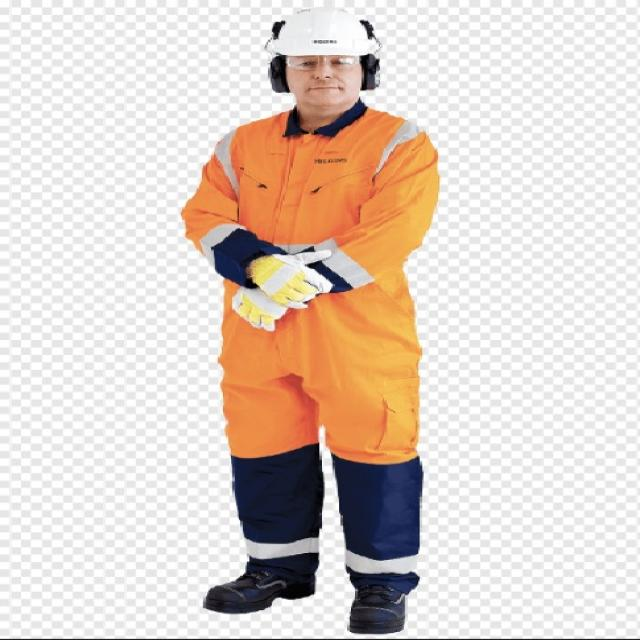boots: (195, 494, 321, 627), (331, 536, 429, 640)
gloves: (197, 236, 364, 344)
goggles: (262, 49, 381, 81)
helmet: (238, 3, 419, 59)
person: (143, 0, 539, 640)
vest: (201, 100, 448, 238)
